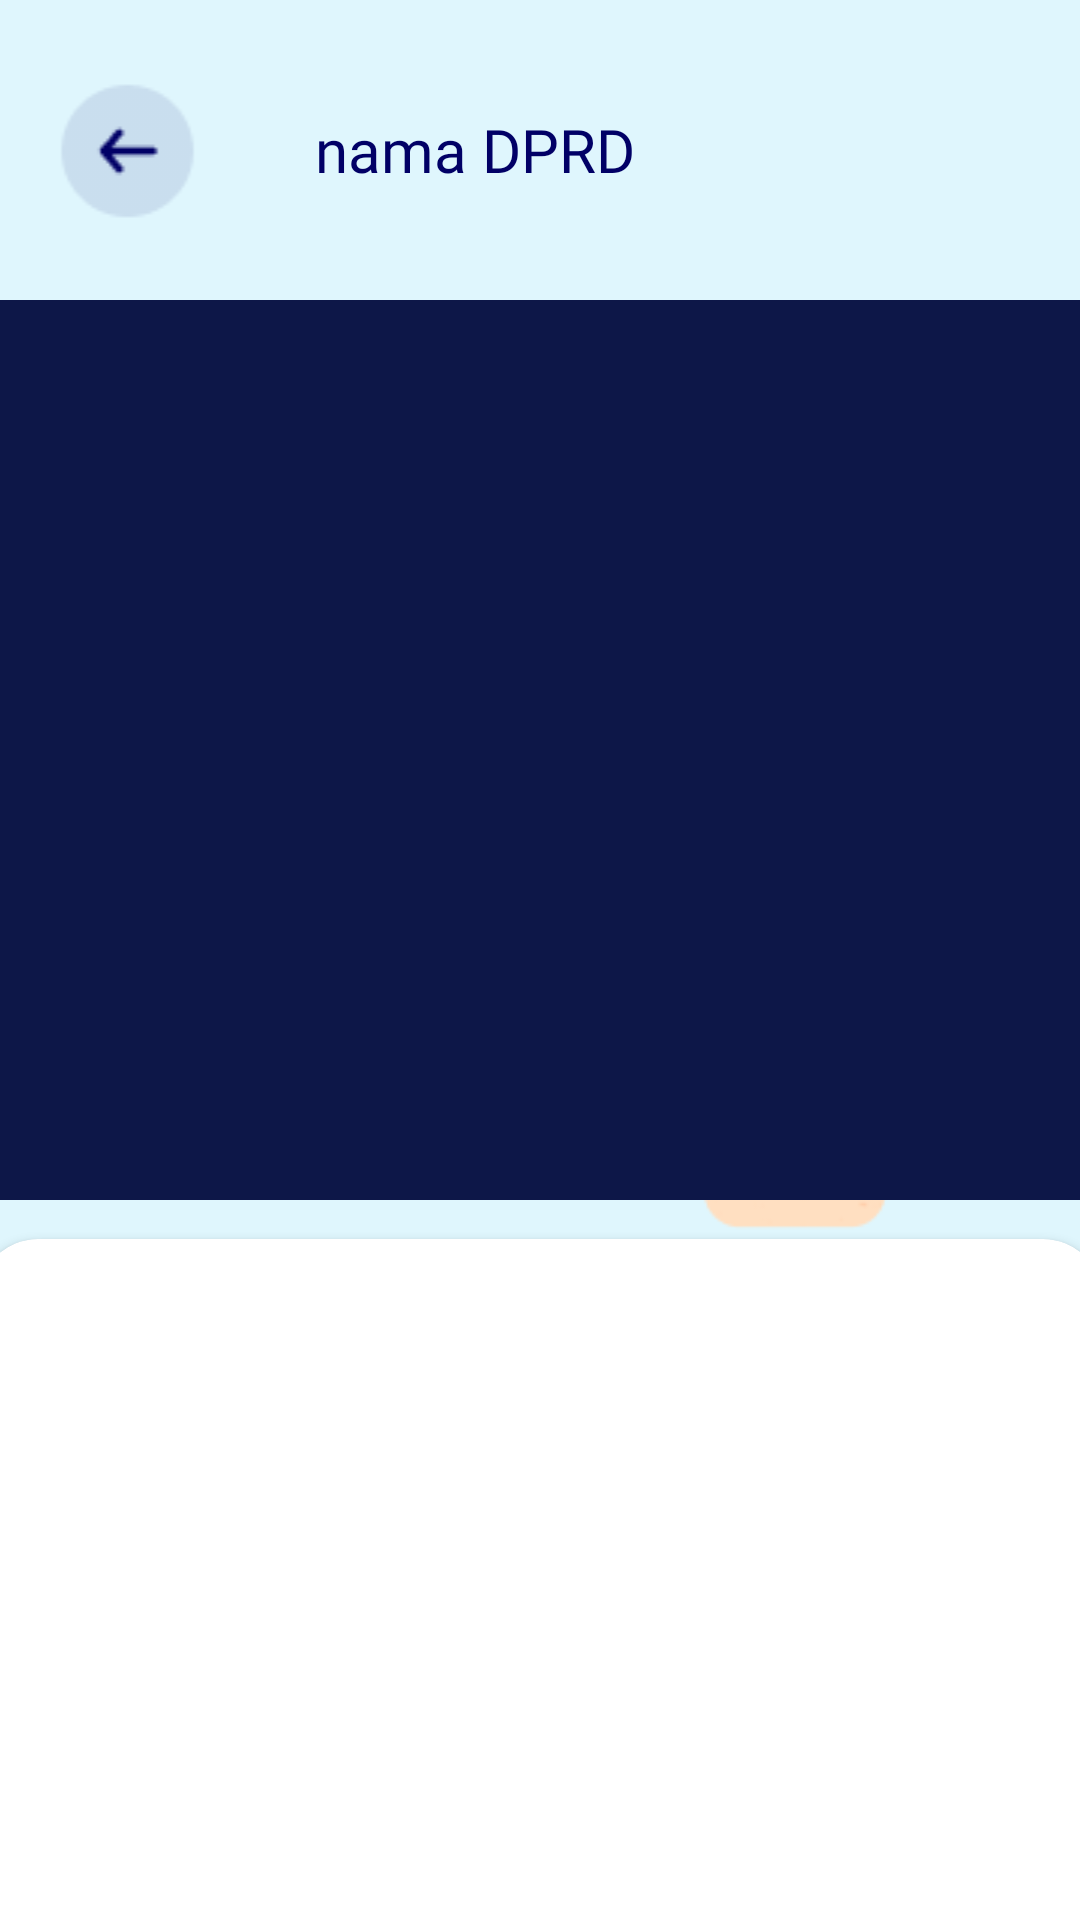

Named icons in this screenshot (1080 × 1920) and their bounding boxes, (x1, y1, x2, y2):
back: (61, 85, 194, 217)
